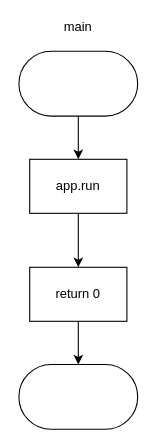
This 157x448 diagram has some shape labels left out. The centre of each missing label's shape, as x and y in pixels:
"begin" goes at point (78, 83).
"end" goes at point (78, 396).
